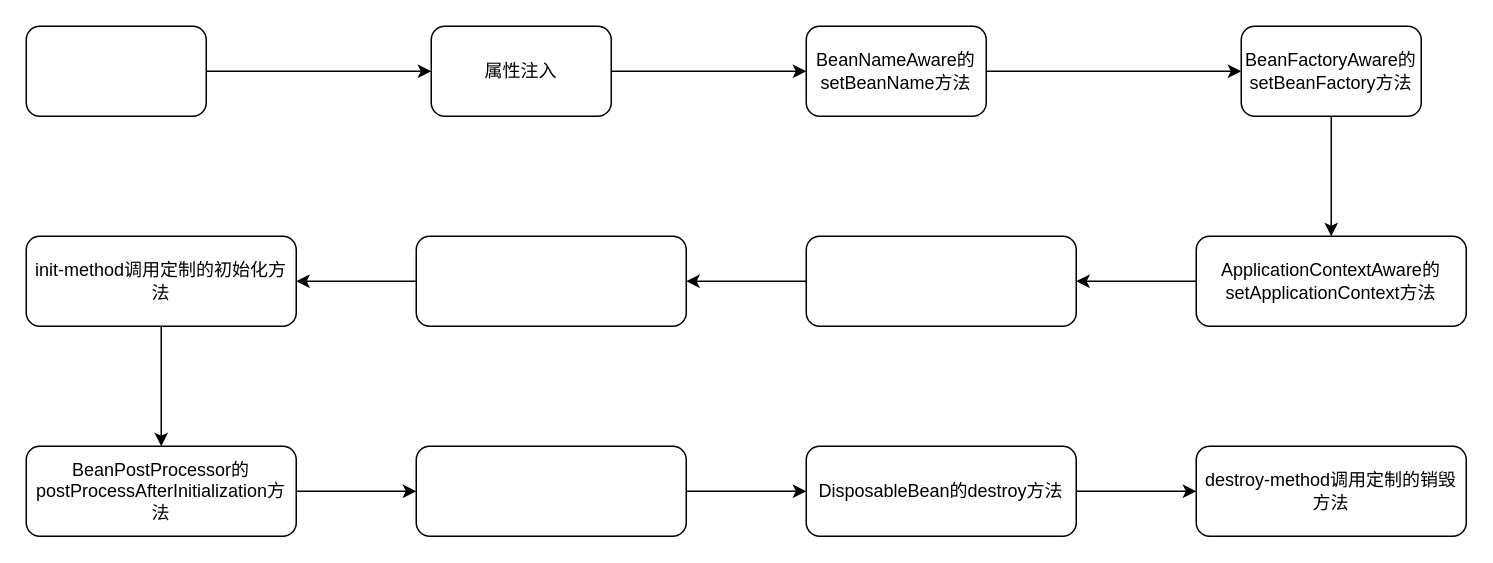
The diagram is 1493 pixels wide and 563 high, and some of its shapes have lost their labels. The shapes that lost their labels are listed below. From the top down, each one's centre as x and y in pixels, then its label:
At point (115, 70): "Bean的实例化".
At point (550, 280): "InitializingBean的afterPropertiesSet方法".
At point (940, 280): "BeanPostProcessor的postProcessBeforeInitialization方法".
At point (550, 490): "Bean准备就绪".
